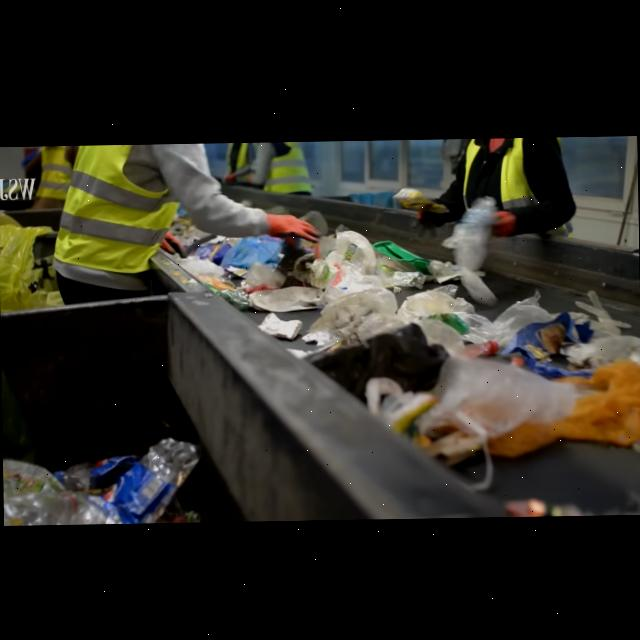trash: (77, 434, 203, 524), (447, 194, 502, 272), (53, 452, 140, 492), (2, 446, 67, 498), (2, 488, 78, 526), (449, 336, 502, 364)
